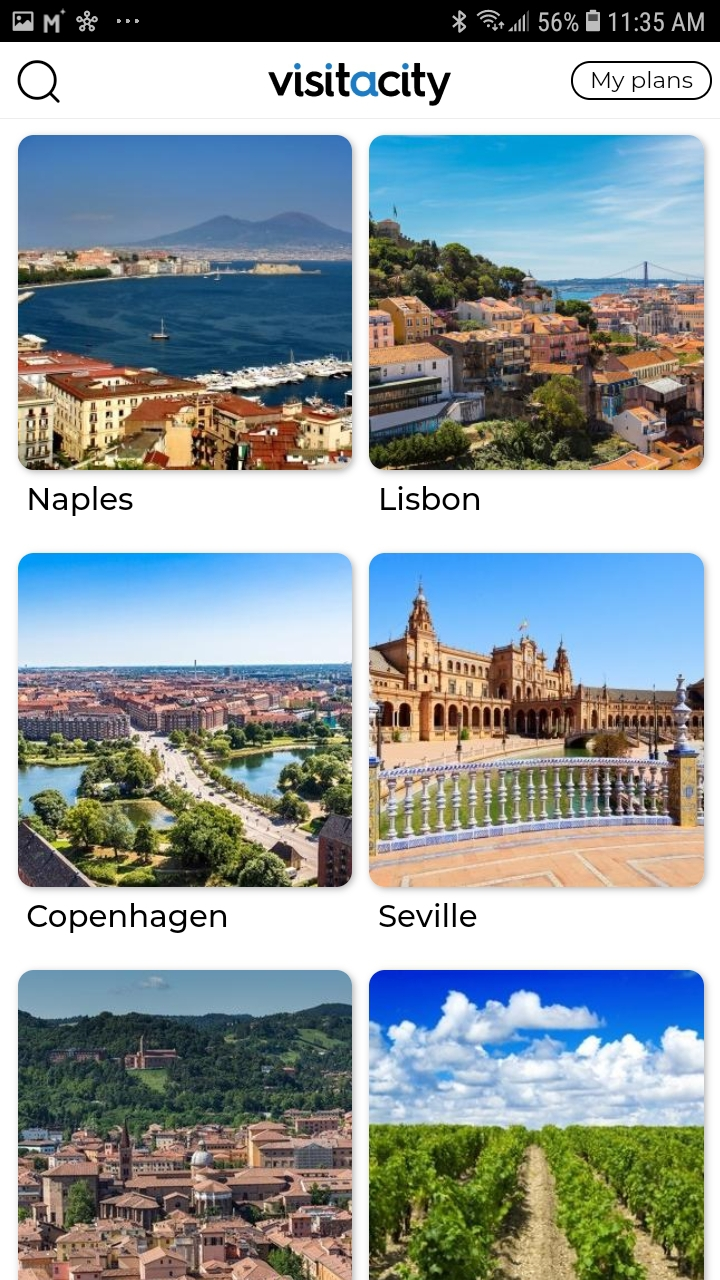Icon: (18, 60, 61, 104)
Image: (18, 553, 353, 888), (369, 553, 704, 888), (369, 136, 704, 471), (19, 136, 353, 471), (369, 970, 704, 1280), (20, 970, 353, 1280), (268, 63, 452, 107)
Text: (28, 903, 227, 934), (30, 486, 134, 517), (380, 485, 480, 511), (379, 903, 477, 928)
TextButton: (571, 61, 713, 101)
UpperTaskBar: (1, 1, 720, 43)
